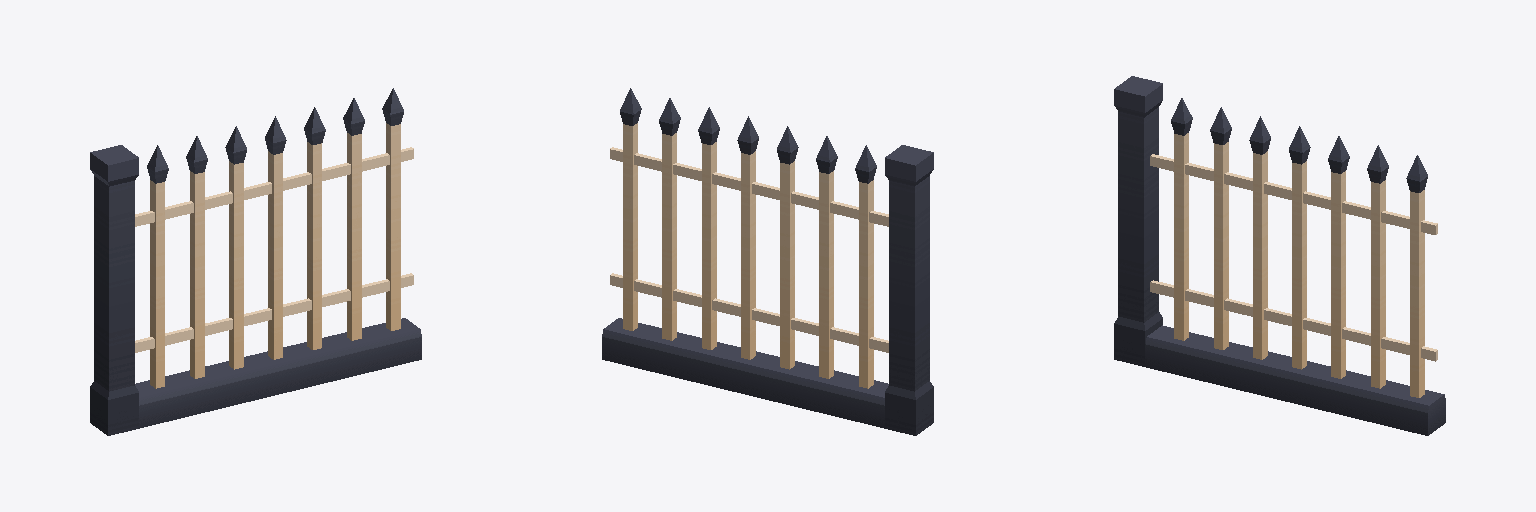
3 views of the same model, side by side, from view 1: azimuth 30°, elevation 25°; view 2: azimuth 150°, elevation 25°; view 3: azimuth 330°, elevation 25° (orthographic).
Parts seen in each view (by area): view 1: iron-fence-border-column.009; view 2: iron-fence-border-column.009; view 3: iron-fence-border-column.009.
Part boxes in pixels (x1,y1,x2,y2): iron-fence-border-column.009: (90, 88, 421, 435); iron-fence-border-column.009: (602, 88, 933, 435); iron-fence-border-column.009: (1114, 76, 1445, 435).
Bounding box in the file's own units: 2.45 × 2.02 × 0.245.
1 materials, 1 textured.